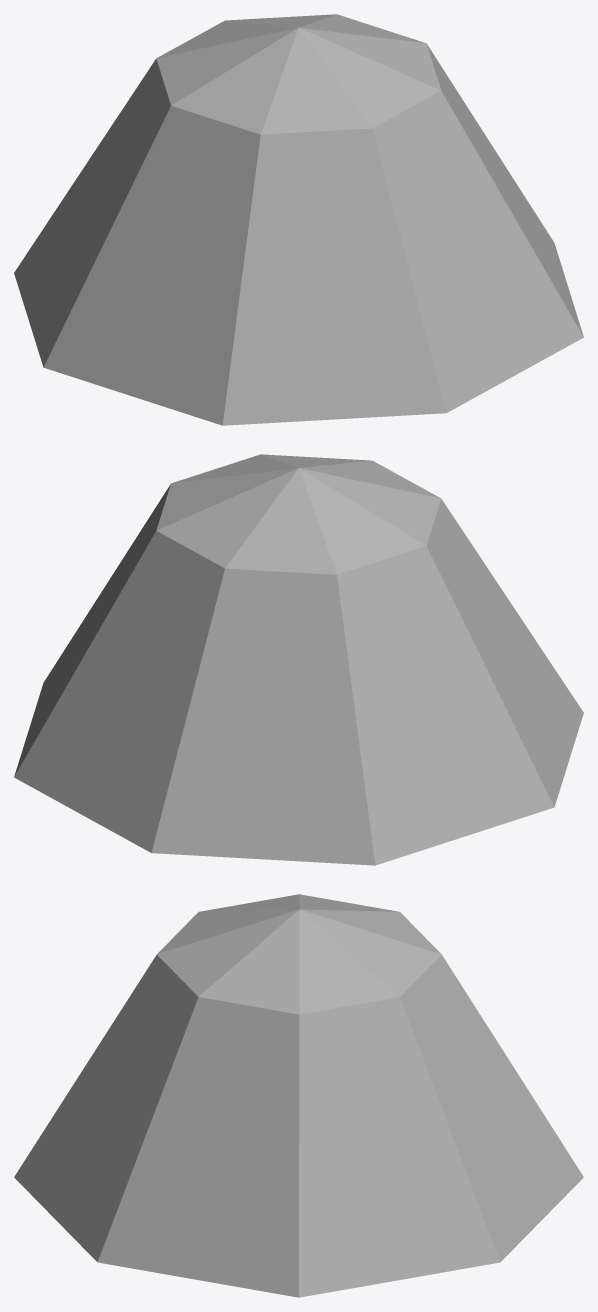
Rendered from bulletproj.glb.
The picture shows the model from 3 angles, top to bottom: view 1: azimuth 30°, elevation 25°; view 2: azimuth 150°, elevation 25°; view 3: azimuth 270°, elevation 25°; orthographic projection. The views are drawn at different scales.
Visible parts, largest first — view 1: Cylinder.001; view 2: Cylinder.001; view 3: Cylinder.001.
Part boxes in pixels (left/top/right/bottom): Cylinder.001: left=14, top=14, right=583, bottom=425; Cylinder.001: left=14, top=454, right=583, bottom=865; Cylinder.001: left=14, top=894, right=583, bottom=1297.
Bounding box in the file's own units: 0.6 × 0.3112 × 0.6.
1 material, 1 textured.
